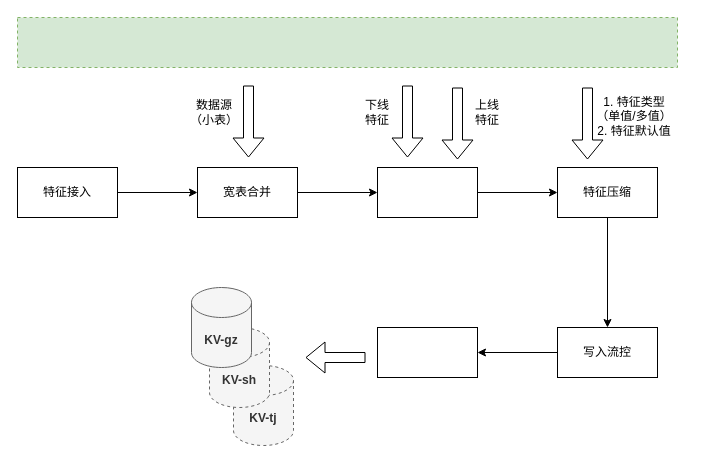
This 707x463 diagram has some shape labels left out. The shapes that lost their labels are listed below. From the top down, each one's centre as x and y in pixels, then its label:
[347,42]: 元数据
[427,192]: 特征选取
[427,352]: 多zone同步
